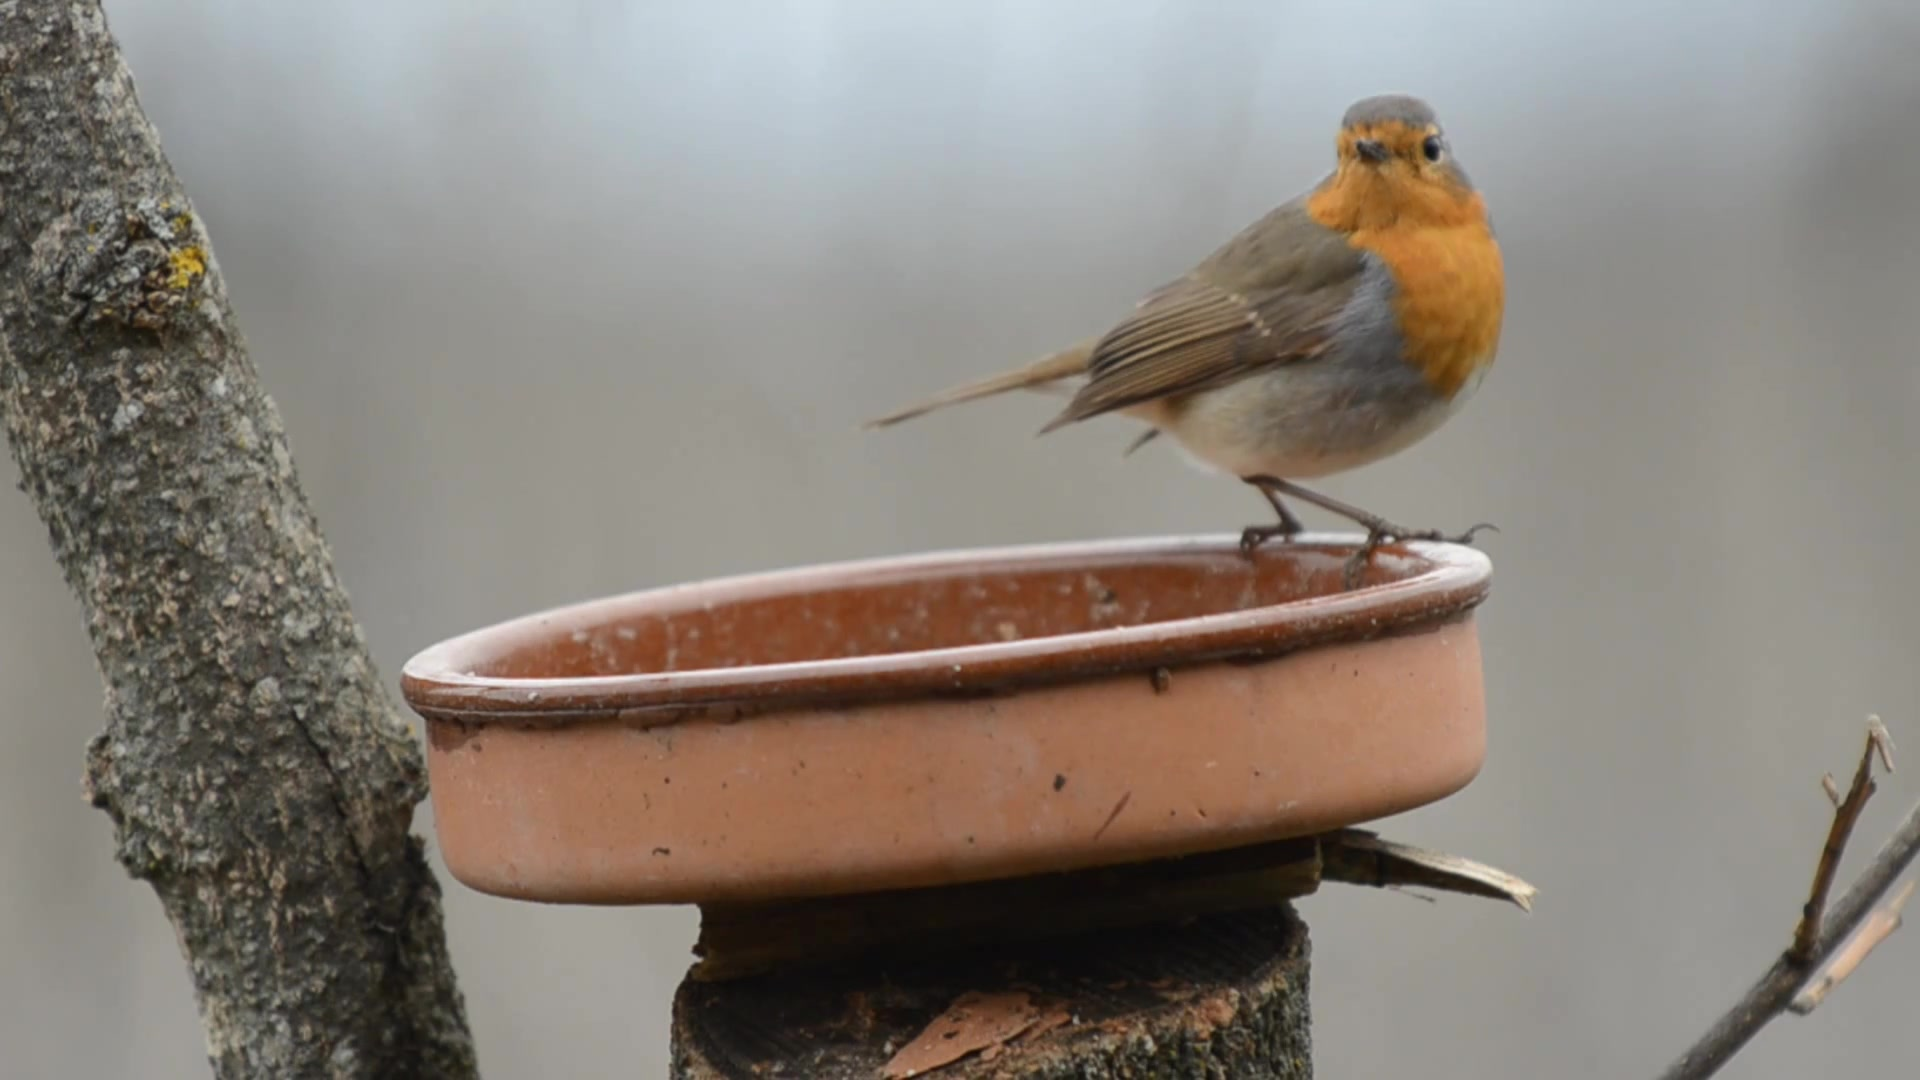bird: (862, 96, 1510, 591)
